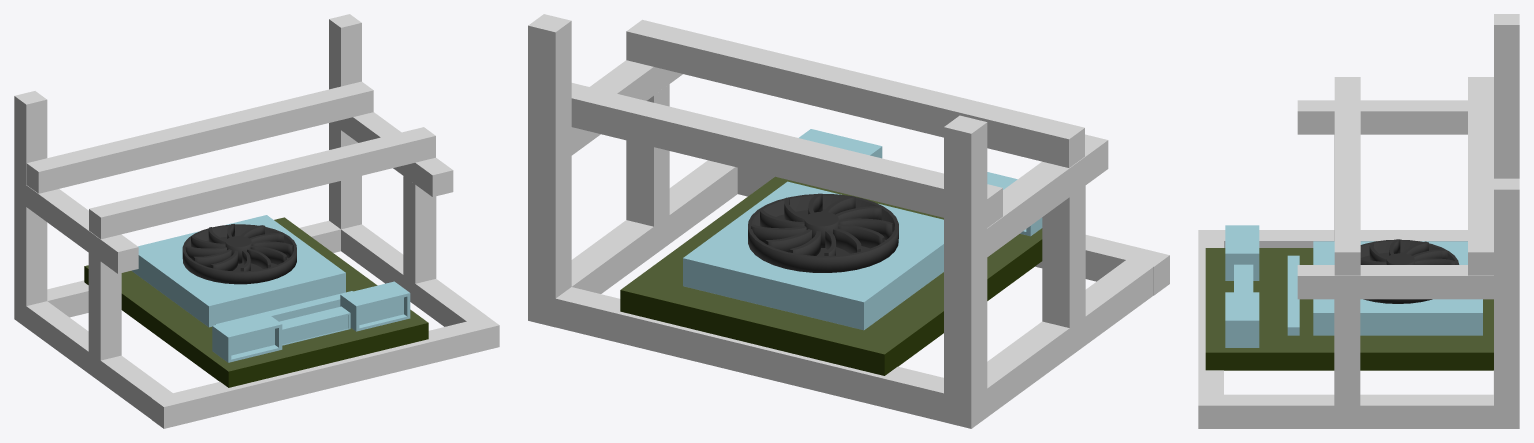
File: cryptofarm_tier2.fbx
The picture shows the model from 3 angles, left to right: view 1: azimuth 30°, elevation 25°; view 2: azimuth 150°, elevation 25°; view 3: azimuth 270°, elevation 25°; orthographic projection. The views are drawn at different scales.
Visible parts, largest first — view 1: Cube.012, Cube, Cube.001, Cylinder.001, Cube.002, Cube.003, Cylinder, Cube.004, Cube.005; view 2: Cube.012, Cube, Cube.001, Cylinder.001, Cylinder, Cube.003; view 3: Cube.012, Cube, Cube.001, Cube.003, Cube.002, Cylinder.001, Cylinder, Cube.005, Cube.004.
Boxes of the visible parts, x1=… form: Cube.012: x1=14, y1=14, x2=499, y2=428; Cube: x1=84, y1=217, x2=428, y2=387; Cube.001: x1=131, y1=215, x2=345, y2=327; Cylinder.001: x1=185, y1=224, x2=292, y2=271; Cube.002: x1=212, y1=312, x2=282, y2=362; Cube.003: x1=340, y1=281, x2=410, y2=331; Cylinder: x1=182, y1=224, x2=296, y2=284; Cube.004: x1=279, y1=306, x2=350, y2=345; Cube.005: x1=215, y1=291, x2=352, y2=324; Cube.012: x1=528, y1=14, x2=1169, y2=428; Cube: x1=620, y1=176, x2=1042, y2=375; Cube.001: x1=683, y1=181, x2=943, y2=330; Cylinder.001: x1=751, y1=193, x2=892, y2=255; Cylinder: x1=748, y1=194, x2=898, y2=272; Cube.003: x1=799, y1=129, x2=882, y2=158; Cube.012: x1=1198, y1=14, x2=1519, y2=428; Cube: x1=1205, y1=248, x2=1493, y2=370; Cube.001: x1=1313, y1=241, x2=1482, y2=335; Cube.003: x1=1225, y1=292, x2=1259, y2=347; Cube.002: x1=1225, y1=225, x2=1259, y2=280; Cylinder.001: x1=1360, y1=239, x2=1455, y2=264; Cylinder: x1=1360, y1=239, x2=1459, y2=303; Cube.005: x1=1287, y1=255, x2=1299, y2=335; Cube.004: x1=1234, y1=264, x2=1253, y2=292.
Bounding box in the file's own units: 216 × 137 × 167.
